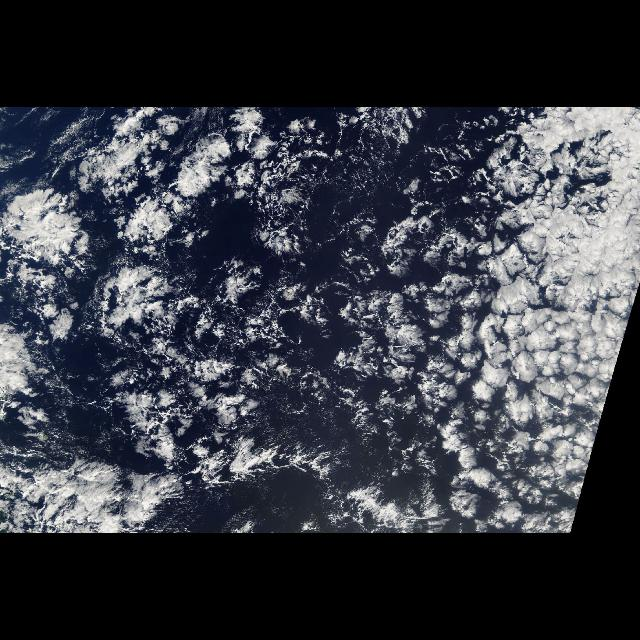Flower: (20, 116, 266, 320), (340, 222, 546, 432)
Sugar: (448, 111, 632, 529)
